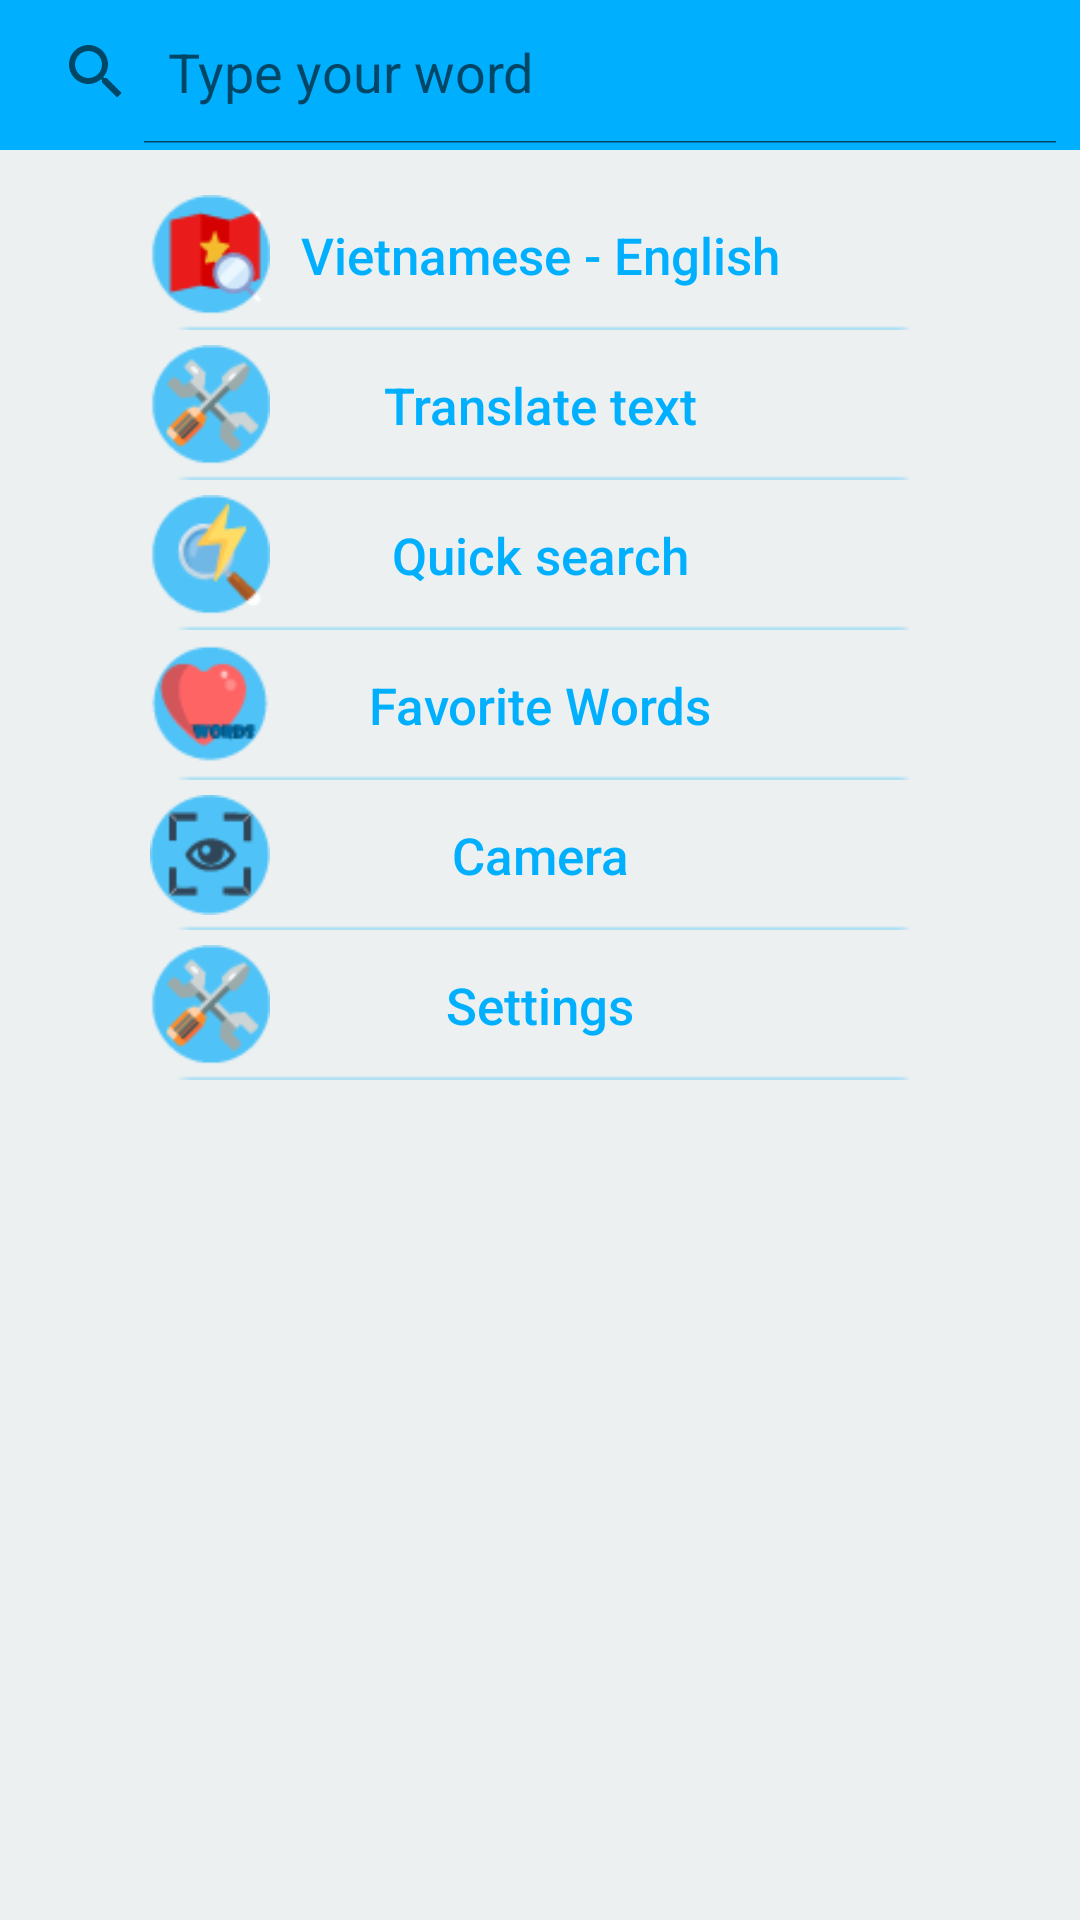

Named icons in this screenshot (1080px x 1920px) and their centers, point (x, y):
ocr: point (210, 855)
